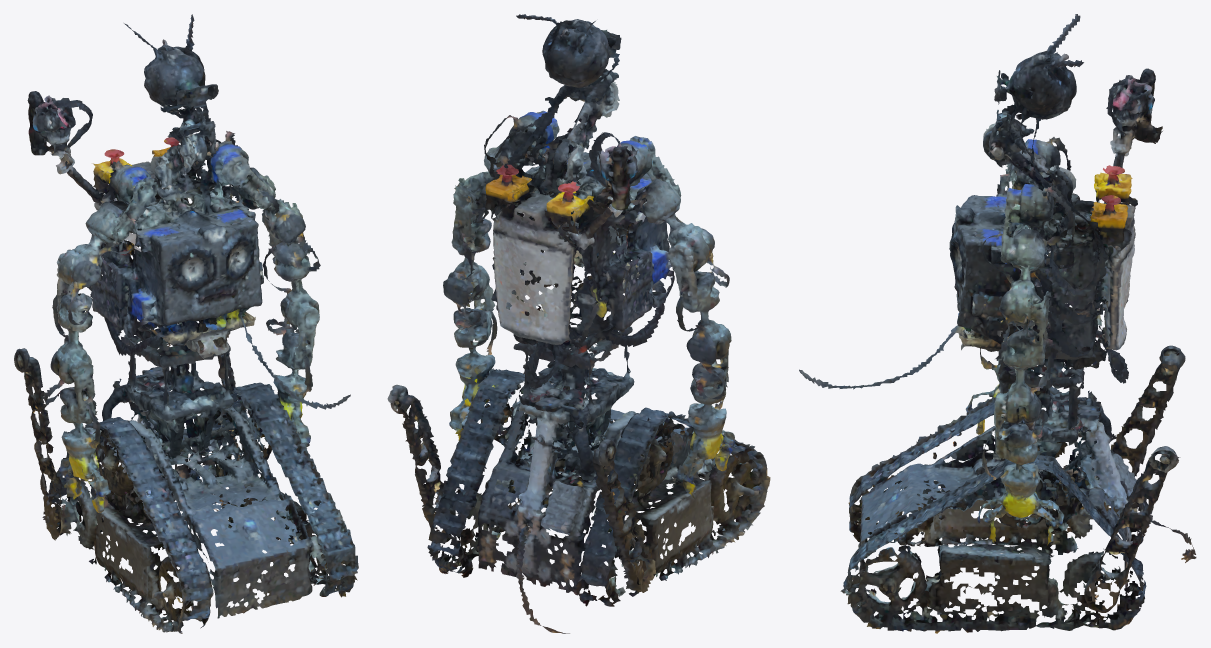
The model's file is rob-lean-back.glb.
3 views of the same model, side by side, from view 1: azimuth 30°, elevation 25°; view 2: azimuth 150°, elevation 25°; view 3: azimuth 270°, elevation 25° (orthographic). The views are drawn at different scales.
Visible parts, largest first — view 1: ROB lean back; view 2: ROB lean back; view 3: ROB lean back.
Boxes of the visible parts, x1,y1,x2,y2 form: ROB lean back: (14,14,358,633); ROB lean back: (387,14,770,633); ROB lean back: (799,14,1196,633).
Bounding box in the file's own units: 0.6619 × 1.27 × 0.8264.
